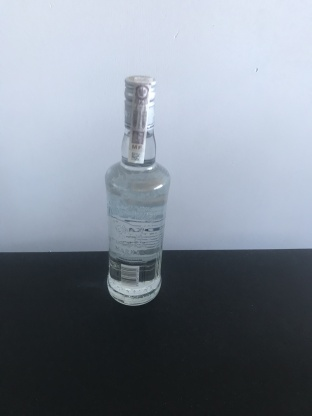nakretka: (122, 71, 158, 134)
